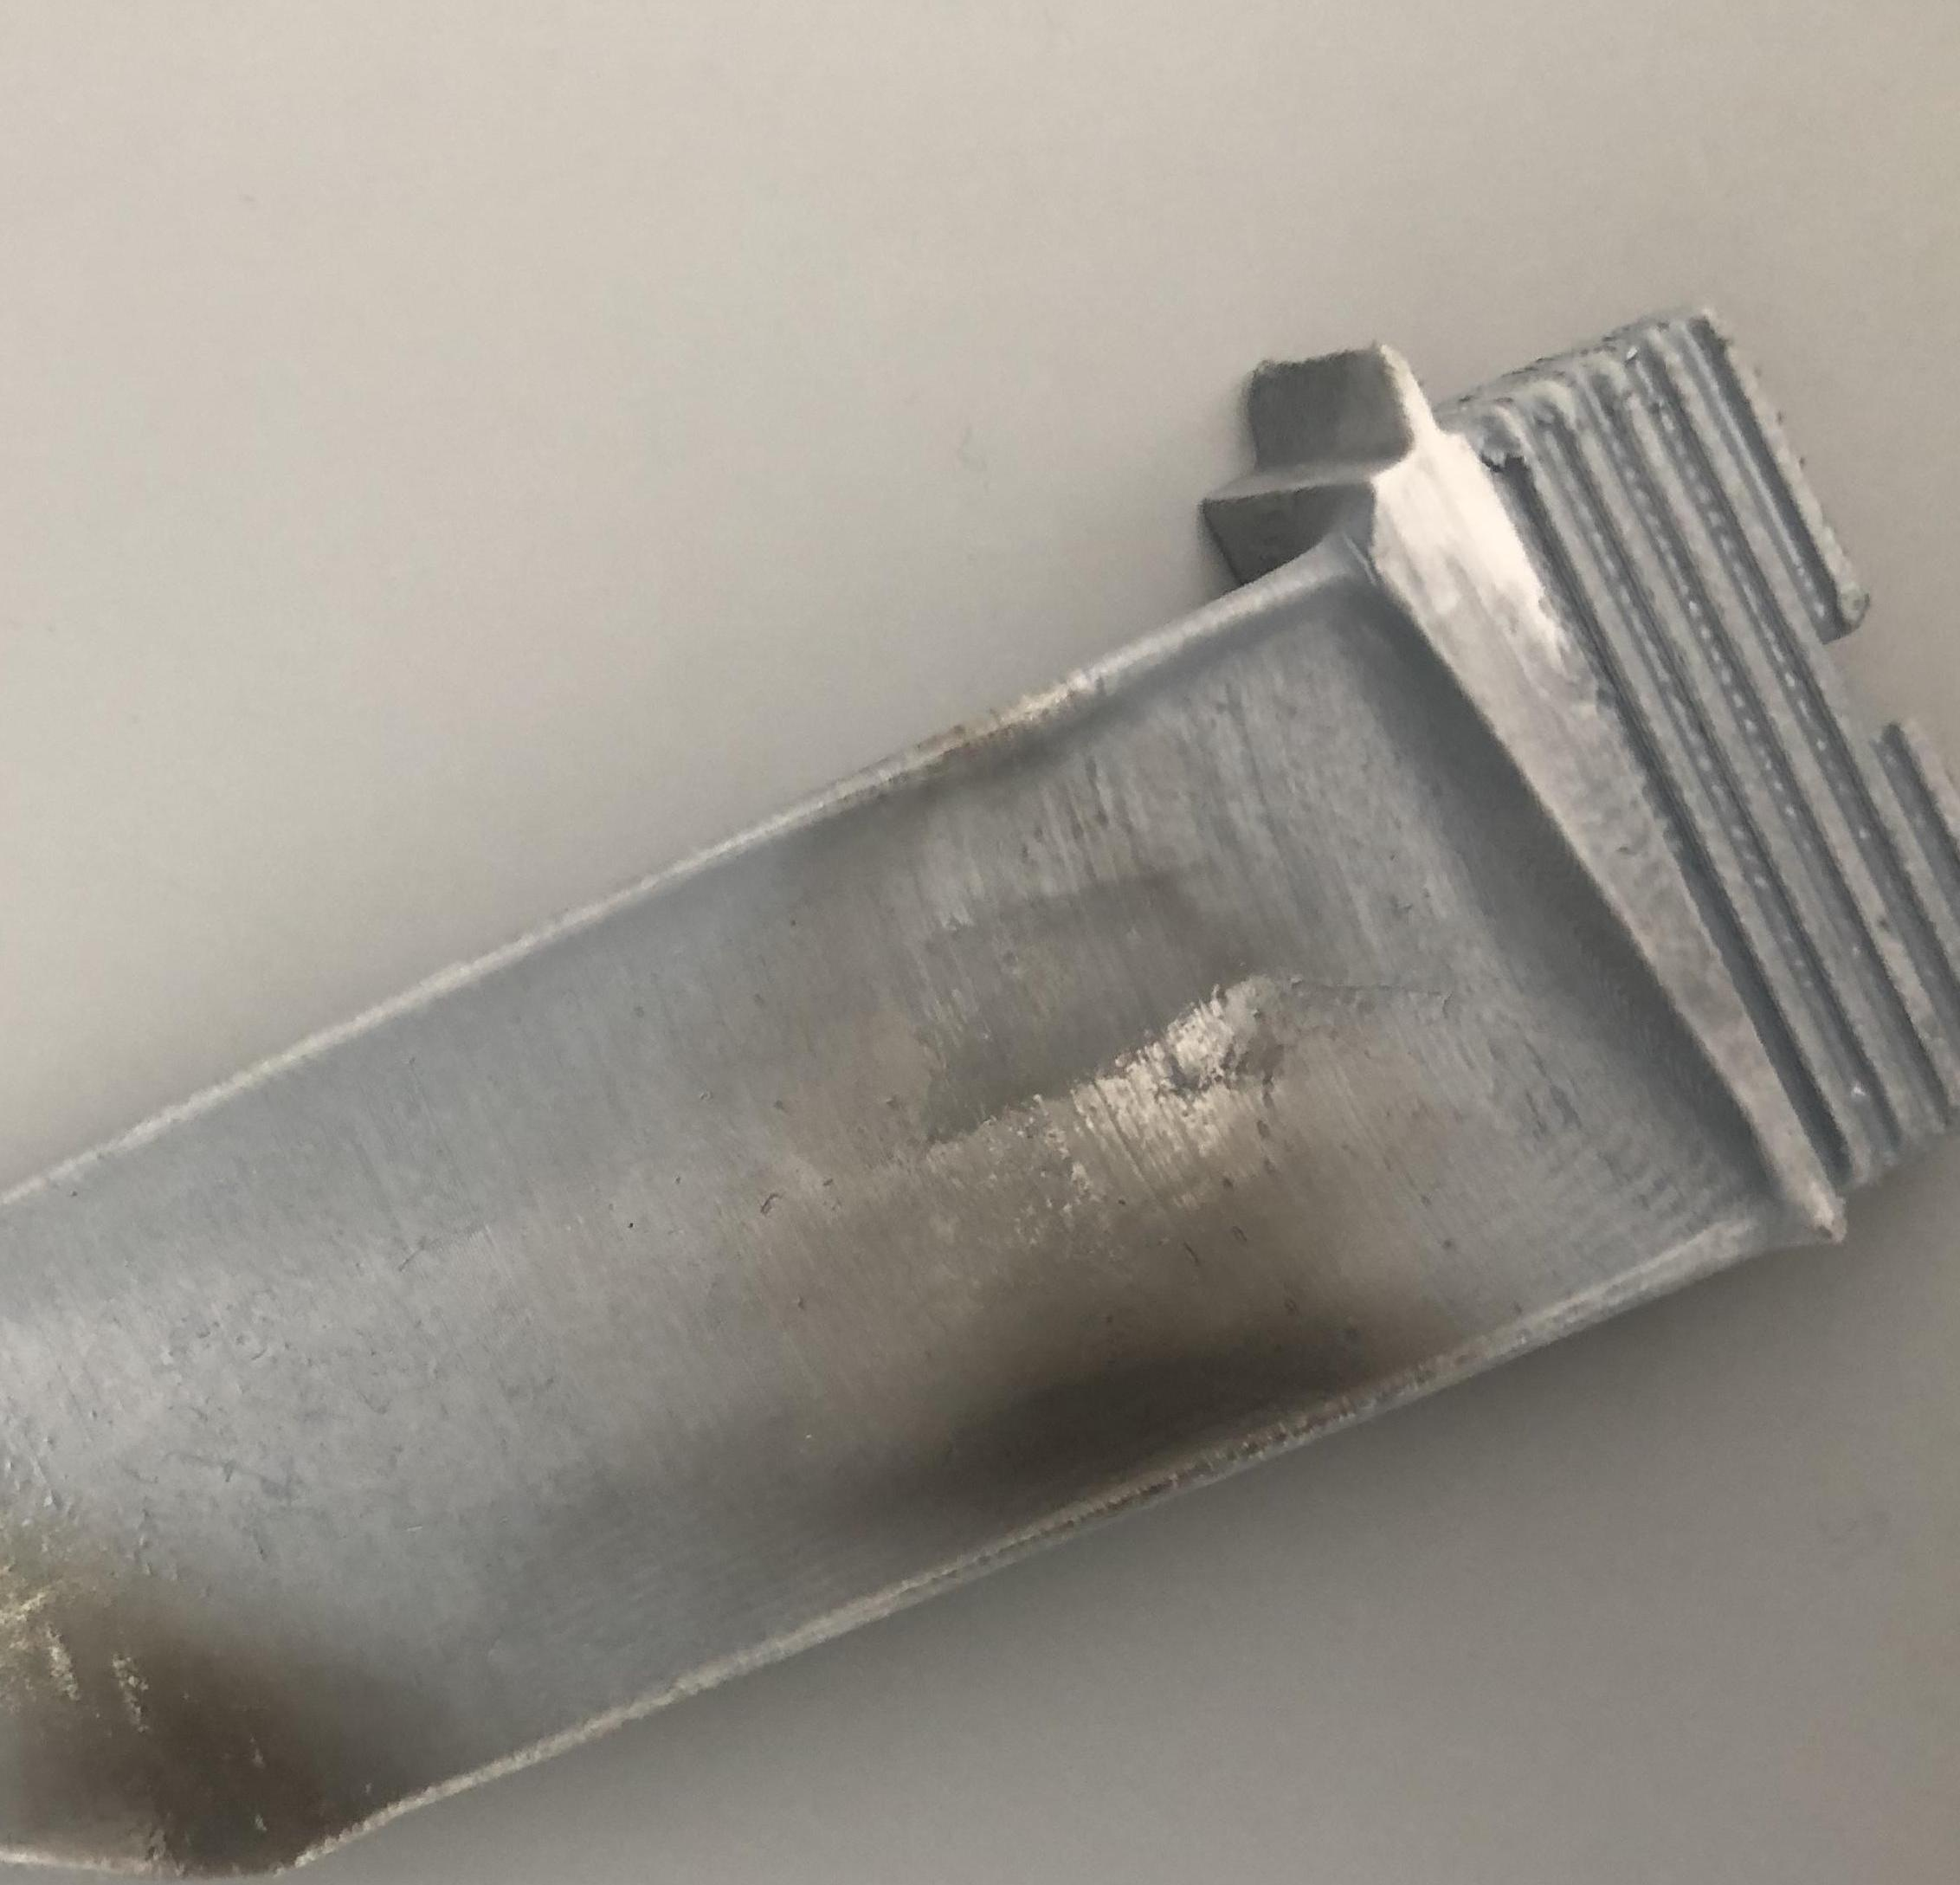ablation: (968, 1106, 1384, 1446), (10, 1582, 367, 1845)
